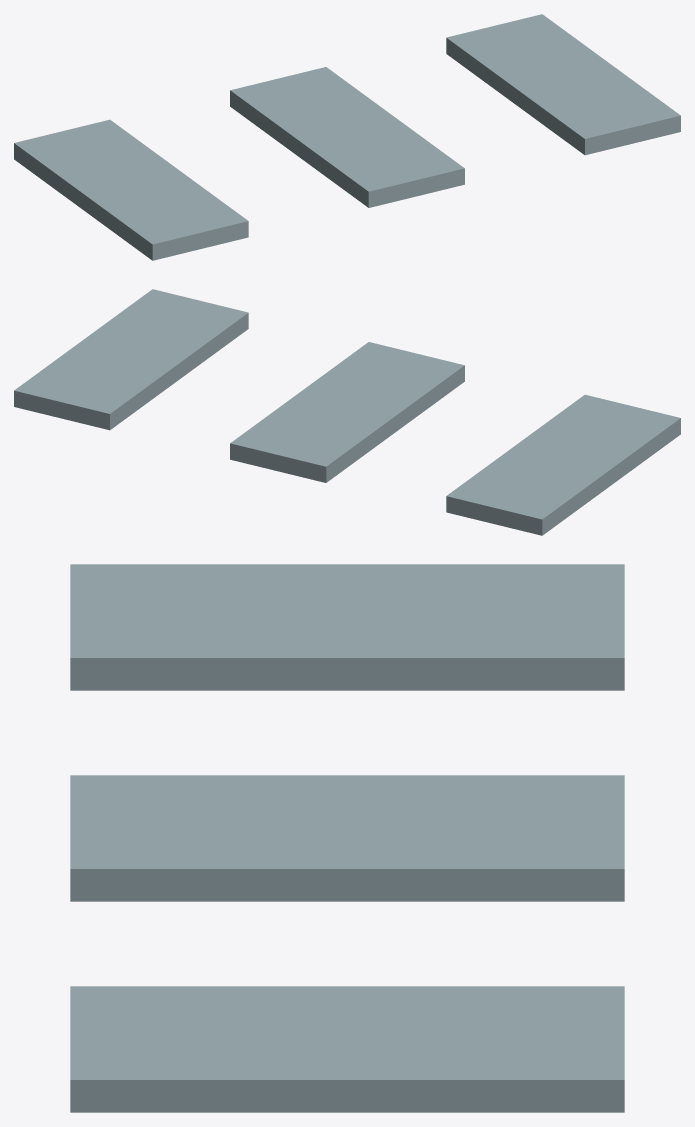
The model's file is 64_L97_Replaced_MOSFET_Pad.fbx.
The picture shows the model from 3 angles, top to bottom: view 1: azimuth 30°, elevation 25°; view 2: azimuth 150°, elevation 25°; view 3: azimuth 270°, elevation 25°; orthographic projection. The views are drawn at different scales.
Parts seen in each view (by area): view 1: Solder_pad_0, Solder_pad_2, Solder_pad_1; view 2: Solder_pad_0, Solder_pad_2, Solder_pad_1; view 3: Solder_pad_0, Solder_pad_1, Solder_pad_2.
Part boxes in pixels (bbox=[...]): Solder_pad_0: bbox=[14, 119, 248, 260]; Solder_pad_2: bbox=[446, 14, 680, 155]; Solder_pad_1: bbox=[230, 67, 464, 207]; Solder_pad_0: bbox=[446, 394, 680, 535]; Solder_pad_2: bbox=[14, 289, 248, 430]; Solder_pad_1: bbox=[230, 342, 464, 482]; Solder_pad_0: bbox=[70, 564, 624, 690]; Solder_pad_1: bbox=[70, 775, 624, 901]; Solder_pad_2: bbox=[70, 986, 624, 1112].
Size of the model in its own units: 0.0044 by 0.00013 by 0.002.
